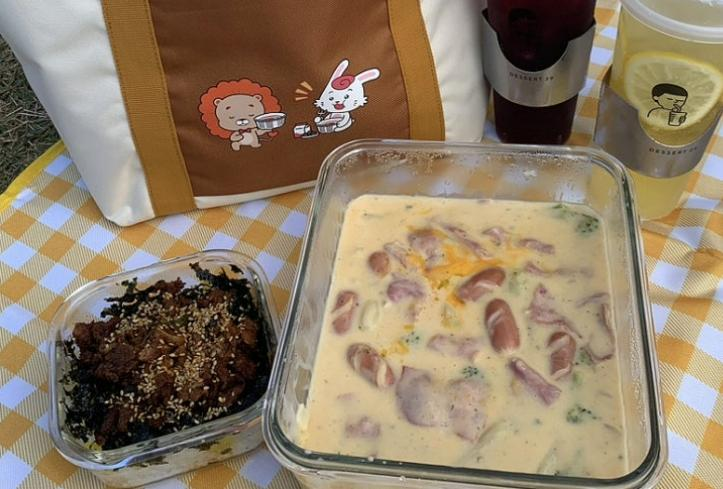Lunch Box: (263, 140, 666, 488), (48, 250, 280, 487)
